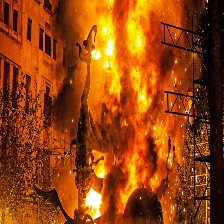fire: (57, 1, 179, 222)
